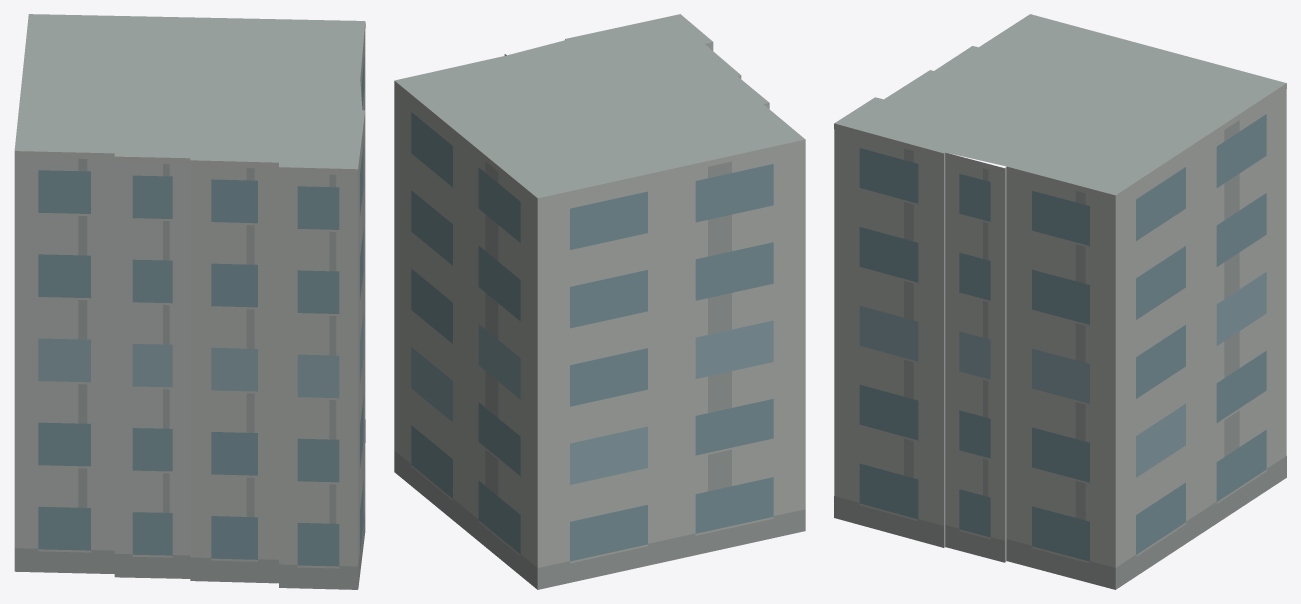
Rendered from survey-upis-32542741.glb.
3 renders of one model, left to right at view 1: azimuth 30°, elevation 25°; view 2: azimuth 150°, elevation 25°; view 3: azimuth 270°, elevation 25°, orthographic. The views are drawn at different scales.
Parts seen in each view (by area): view 1: survey-upis-32542741.tmp; view 2: survey-upis-32542741.tmp; view 3: survey-upis-32542741.tmp.
Boxes of the visible parts, x1=… form: survey-upis-32542741.tmp: x1=14, y1=14, x2=365, y2=589; survey-upis-32542741.tmp: x1=394, y1=14, x2=805, y2=589; survey-upis-32542741.tmp: x1=834, y1=14, x2=1286, y2=589.
Size of the model in its own units: 16.18 by 16.4 by 17.06.
